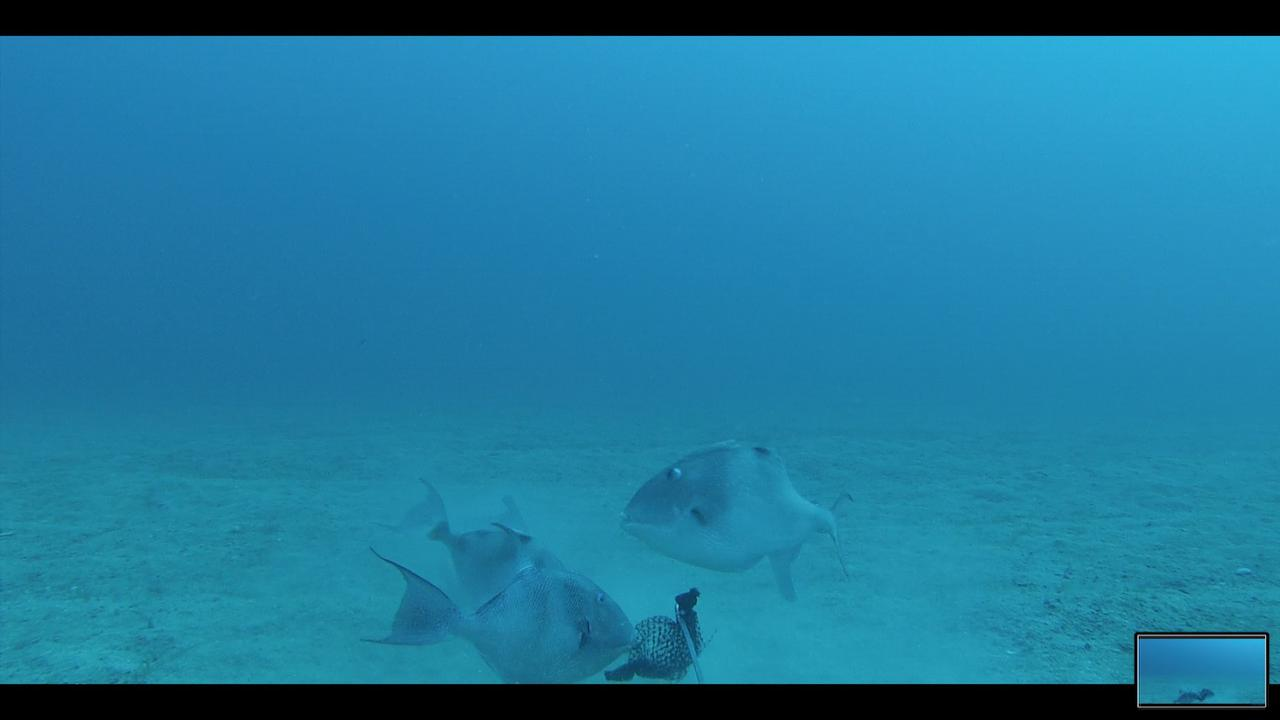balistes: (612, 433, 853, 604), (355, 539, 642, 681), (367, 472, 567, 608)
